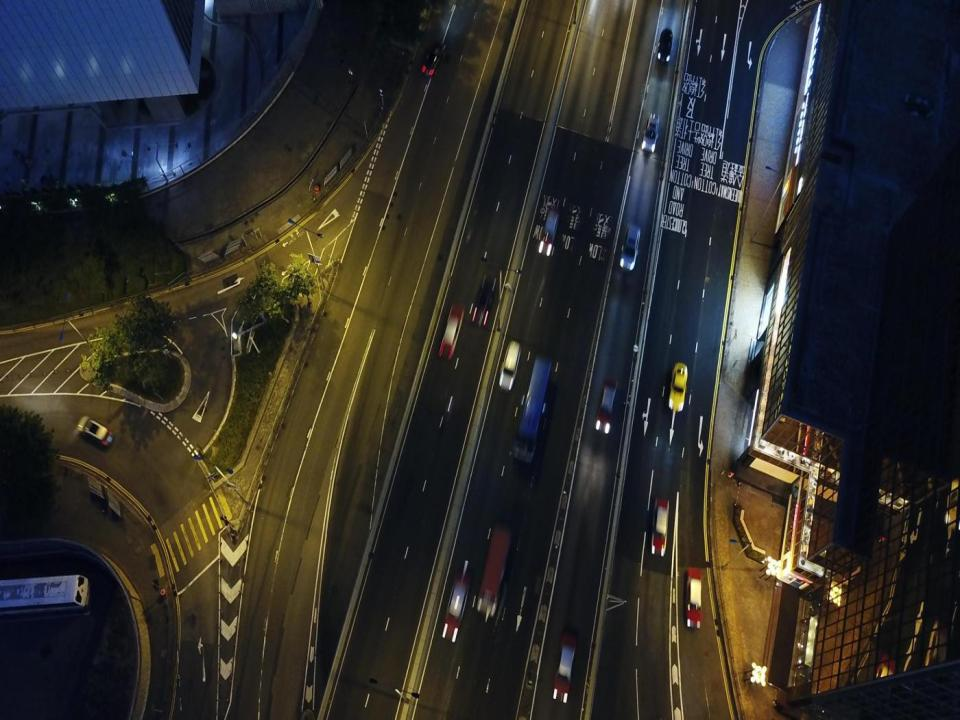bus: (514, 356, 552, 462), (1, 575, 89, 611)
car: (443, 576, 470, 642), (554, 633, 578, 704), (470, 274, 496, 327), (440, 305, 464, 359), (649, 497, 670, 557), (595, 377, 617, 434), (77, 415, 112, 450), (683, 568, 702, 628), (537, 209, 559, 257), (669, 362, 688, 412), (421, 40, 446, 78), (641, 112, 659, 154), (657, 28, 673, 62)
truck: (476, 526, 511, 616)
van: (498, 342, 520, 388), (619, 225, 640, 271)
